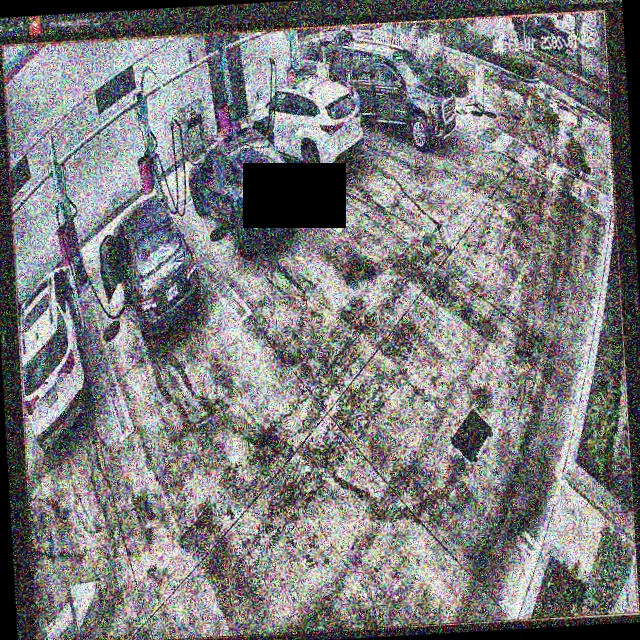Car: (185, 123, 301, 256), (97, 192, 201, 340), (248, 72, 363, 177)
